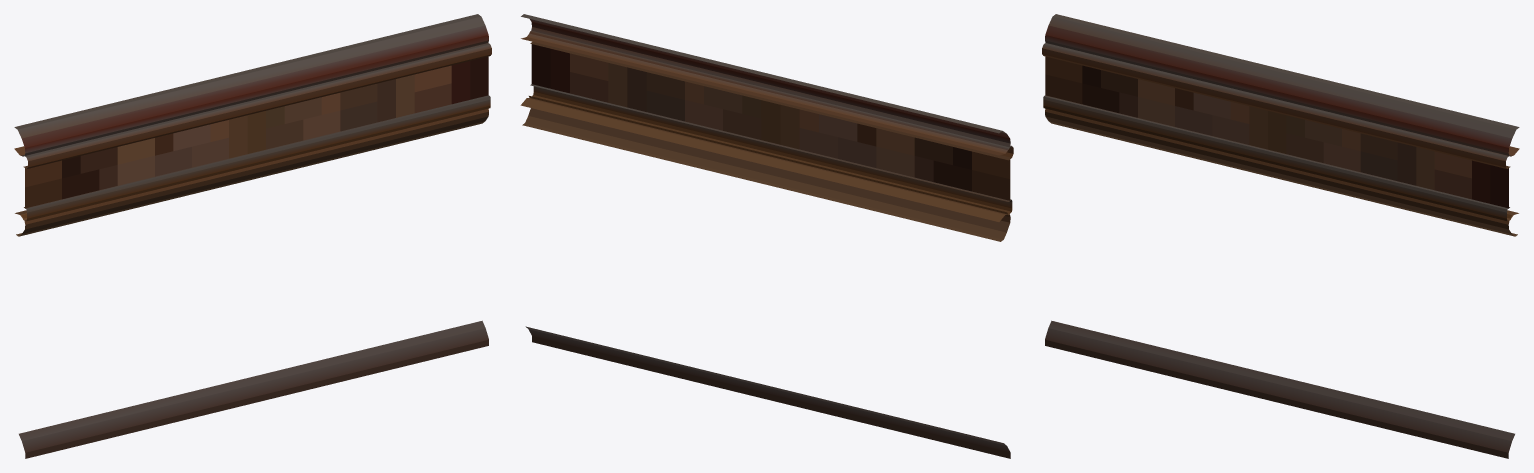
Rendered from Wall_HomeA-TrimA-6m.fbx.
3 views of the same model, side by side, from view 1: azimuth 30°, elevation 25°; view 2: azimuth 150°, elevation 25°; view 3: azimuth 330°, elevation 25° (orthographic). The views are drawn at different scales.
Parts seen in each view (by area): view 1: Wall_HomeA-TrimA-6m; view 2: Wall_HomeA-TrimA-6m; view 3: Wall_HomeA-TrimA-6m.
Boxes of the visible parts, box(x1,y1,x2,y2) form: Wall_HomeA-TrimA-6m: box(14, 14, 491, 458); Wall_HomeA-TrimA-6m: box(520, 14, 1013, 458); Wall_HomeA-TrimA-6m: box(1042, 14, 1519, 458).
Size of the model in its own units: 600 by 400 by 31.15.
